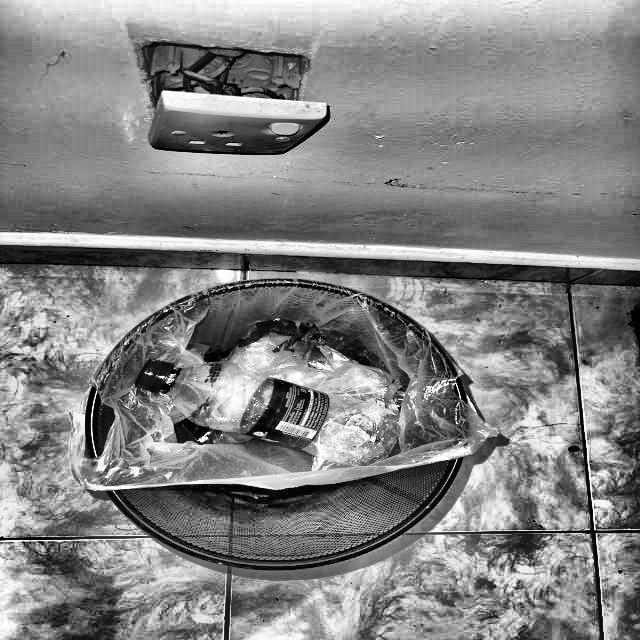Bottle-Disposed: (91, 280, 470, 571)
